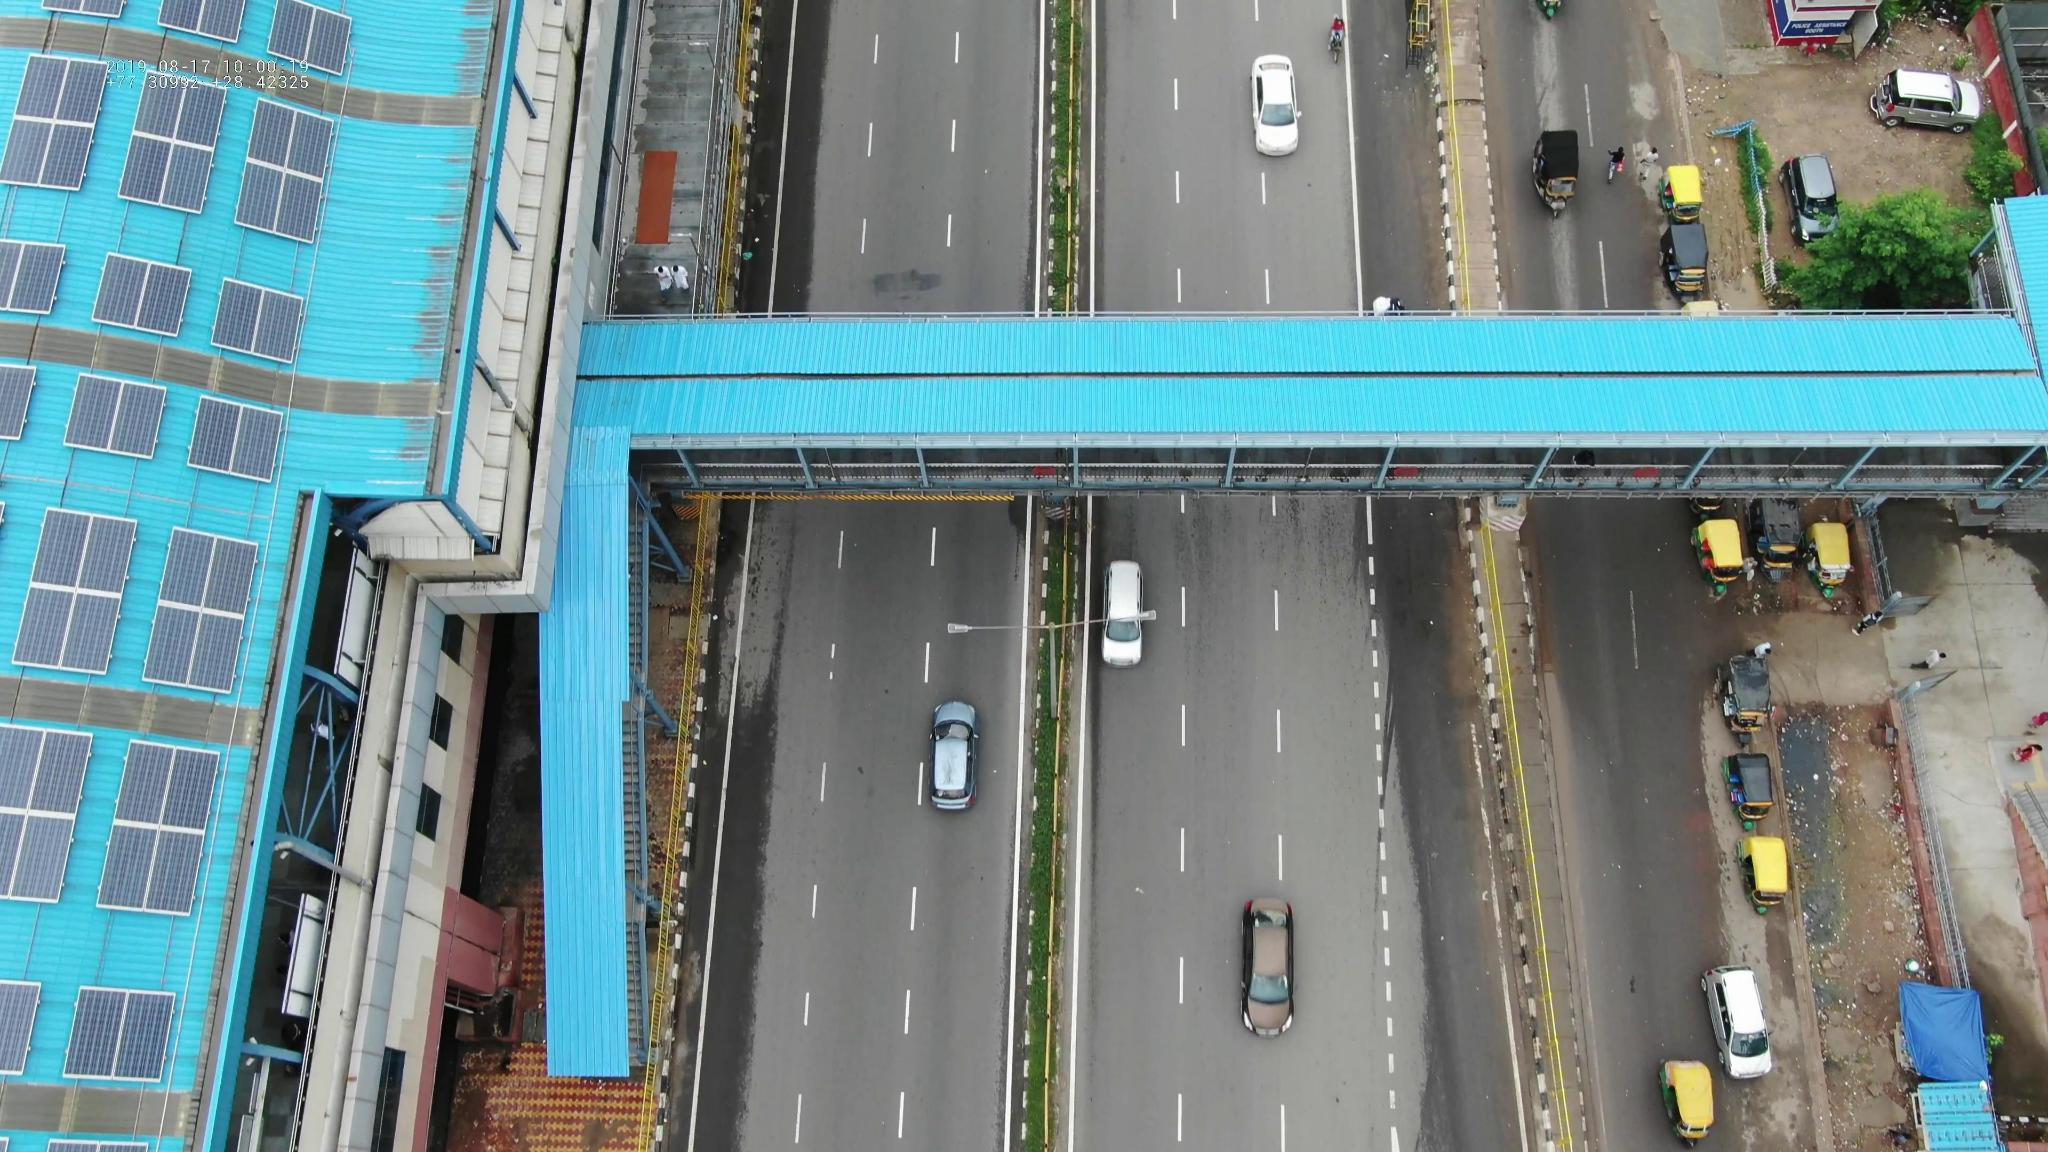Muddy_road: (1440, 565, 1488, 783), (1405, 120, 1452, 307)
